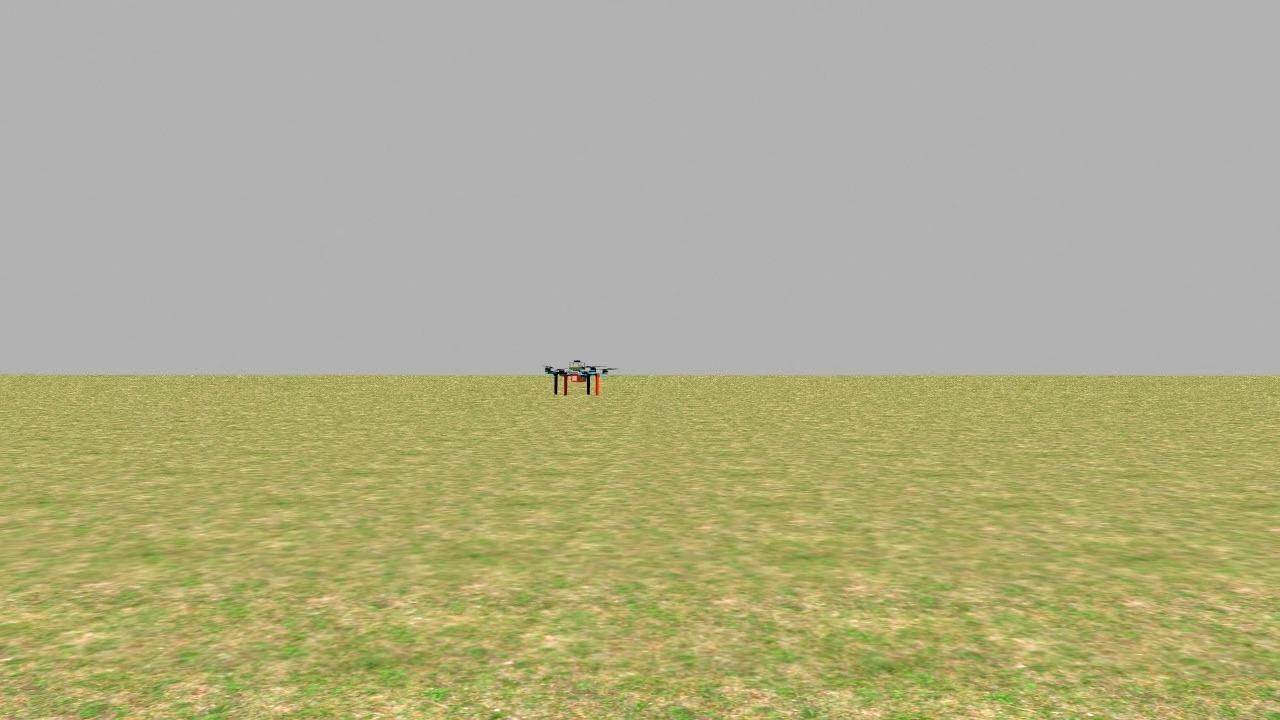UAV: (532, 336, 618, 406)
